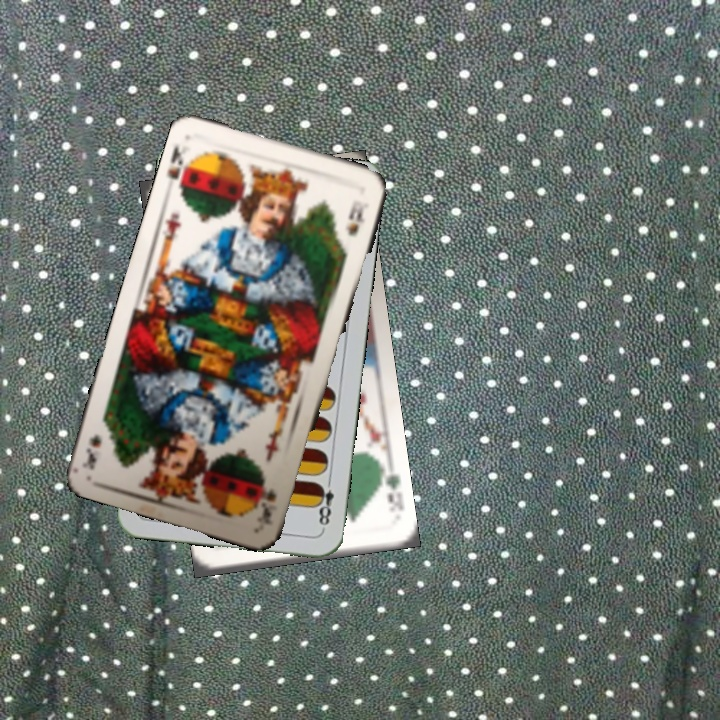E8: (312, 474, 336, 533)
GK: (376, 465, 407, 513)
SK: (163, 140, 194, 196), (253, 484, 279, 528)
